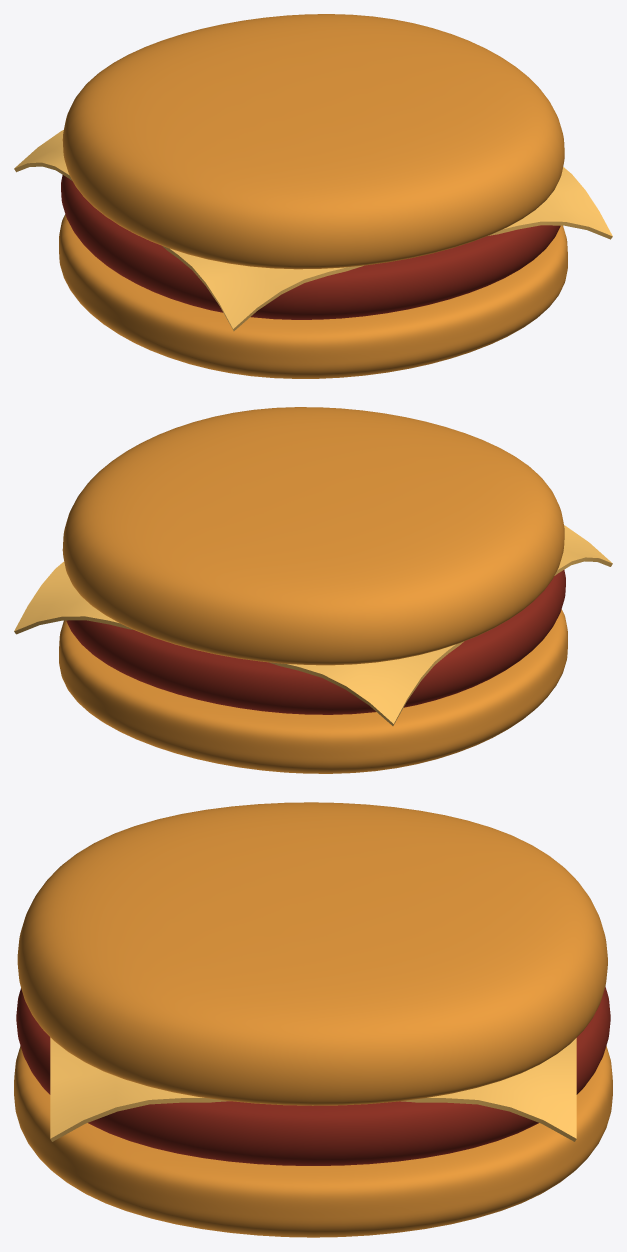
The model's file is hamburger.glb.
3 renders of one model, top to bottom at view 1: azimuth 30°, elevation 25°; view 2: azimuth 150°, elevation 25°; view 3: azimuth 270°, elevation 25°, orthographic. The views are drawn at different scales.
Visible parts, largest first — view 1: Cube.002, Cube, Cube.001, Plane; view 2: Cube.002, Cube, Cube.001, Plane; view 3: Cube.002, Cube, Cube.001, Plane.
Part boxes in pixels (left/top/right/bottom): Cube.002: left=62, top=14, right=564, bottom=269; Cube: left=59, top=214, right=567, bottom=378; Cube.001: left=61, top=175, right=560, bottom=319; Plane: left=14, top=130, right=612, bottom=331; Cube.002: left=62, top=407, right=564, bottom=665; Cube: left=59, top=609, right=567, bottom=773; Cube.001: left=66, top=570, right=565, bottom=714; Plane: left=14, top=525, right=612, bottom=725; Cube.002: left=17, top=802, right=607, bottom=1105; Cube: left=14, top=1046, right=612, bottom=1237; Cube.001: left=16, top=986, right=610, bottom=1165; Plane: left=50, top=1037, right=576, bottom=1141.
Size of the model in its own units: 9.18 by 4.17 by 9.18.
